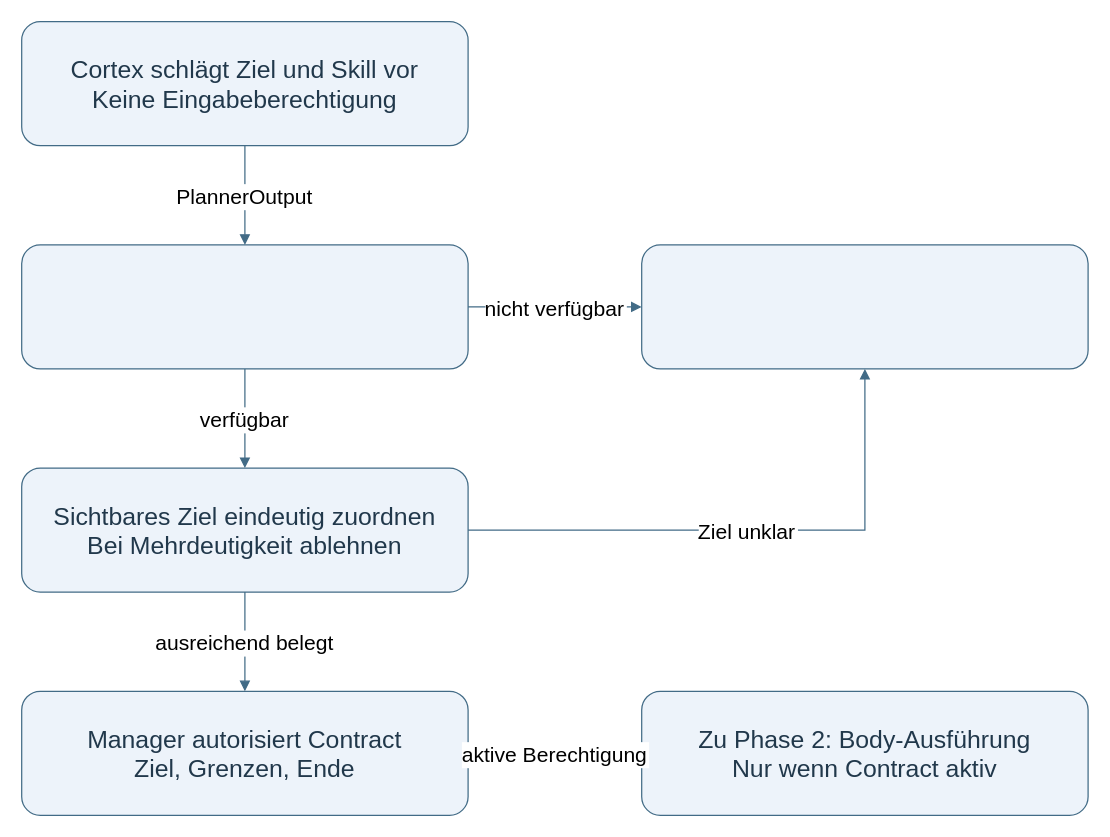
Some shapes in this 1110 by 837 pixel diagram are drawn without their labels. Each missing label, with the box of its shape:
Ablehnung vor Contract Kein neuer Auftrag, keine Eingabe: (640, 244, 1088, 369)
Manager prüft Fähigkeit Nur verfügbare Skills: (20, 244, 468, 369)
